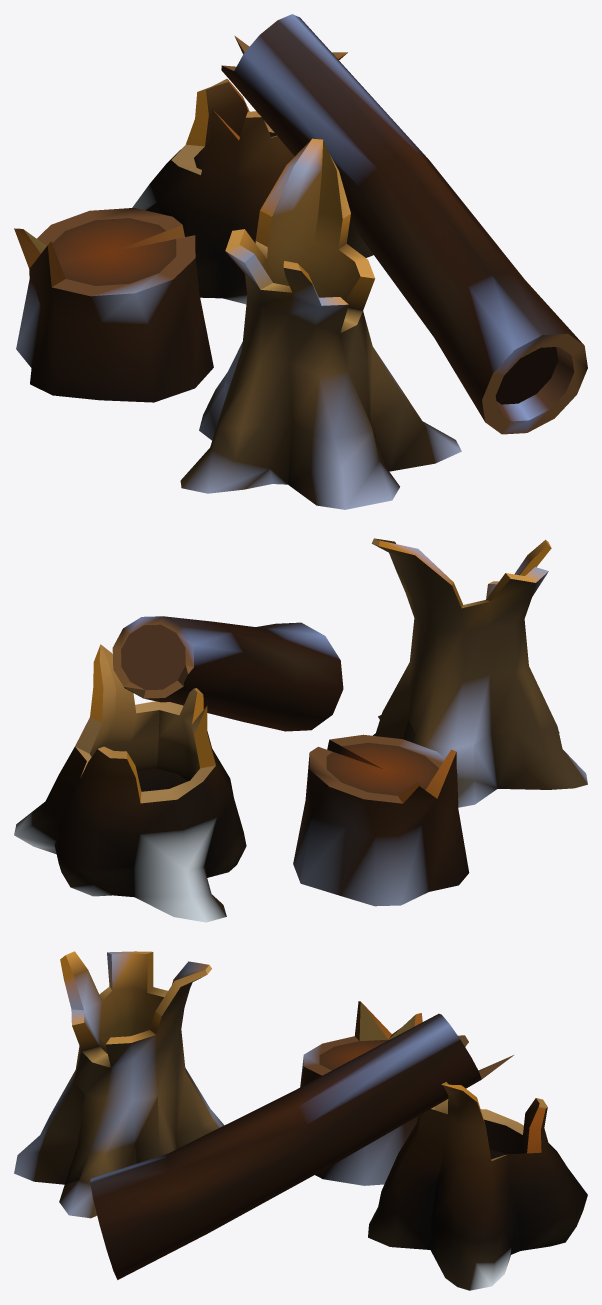
File: Stump_05.fbx
3 renders of one model, top to bottom at view 1: azimuth 30°, elevation 25°; view 2: azimuth 150°, elevation 25°; view 3: azimuth 270°, elevation 25°, orthographic. The views are drawn at different scales.
Visible parts, largest first — view 1: Stump_05; view 2: Stump_05; view 3: Stump_05.
Boxes of the visible parts, x1,y1,x2,y2 form: Stump_05: (14, 14, 587, 509); Stump_05: (14, 538, 587, 922); Stump_05: (14, 951, 587, 1290).
Bounding box in the file's own units: 2251 × 1441 × 3053.
